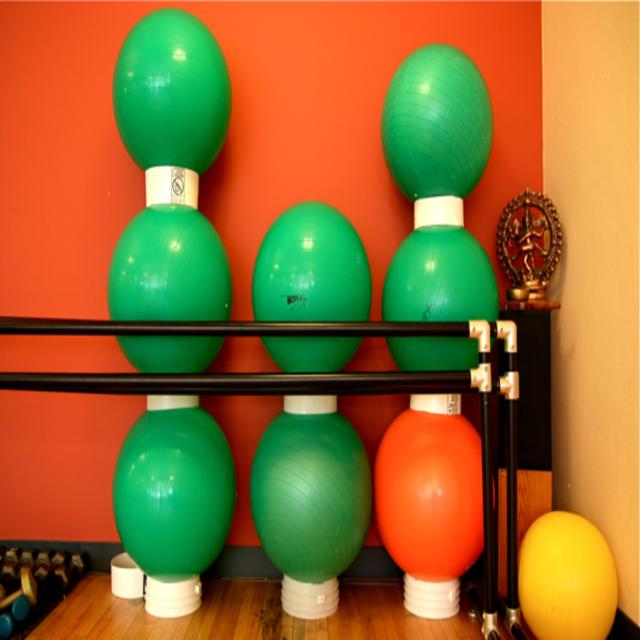Ball: (107, 8, 618, 640)
